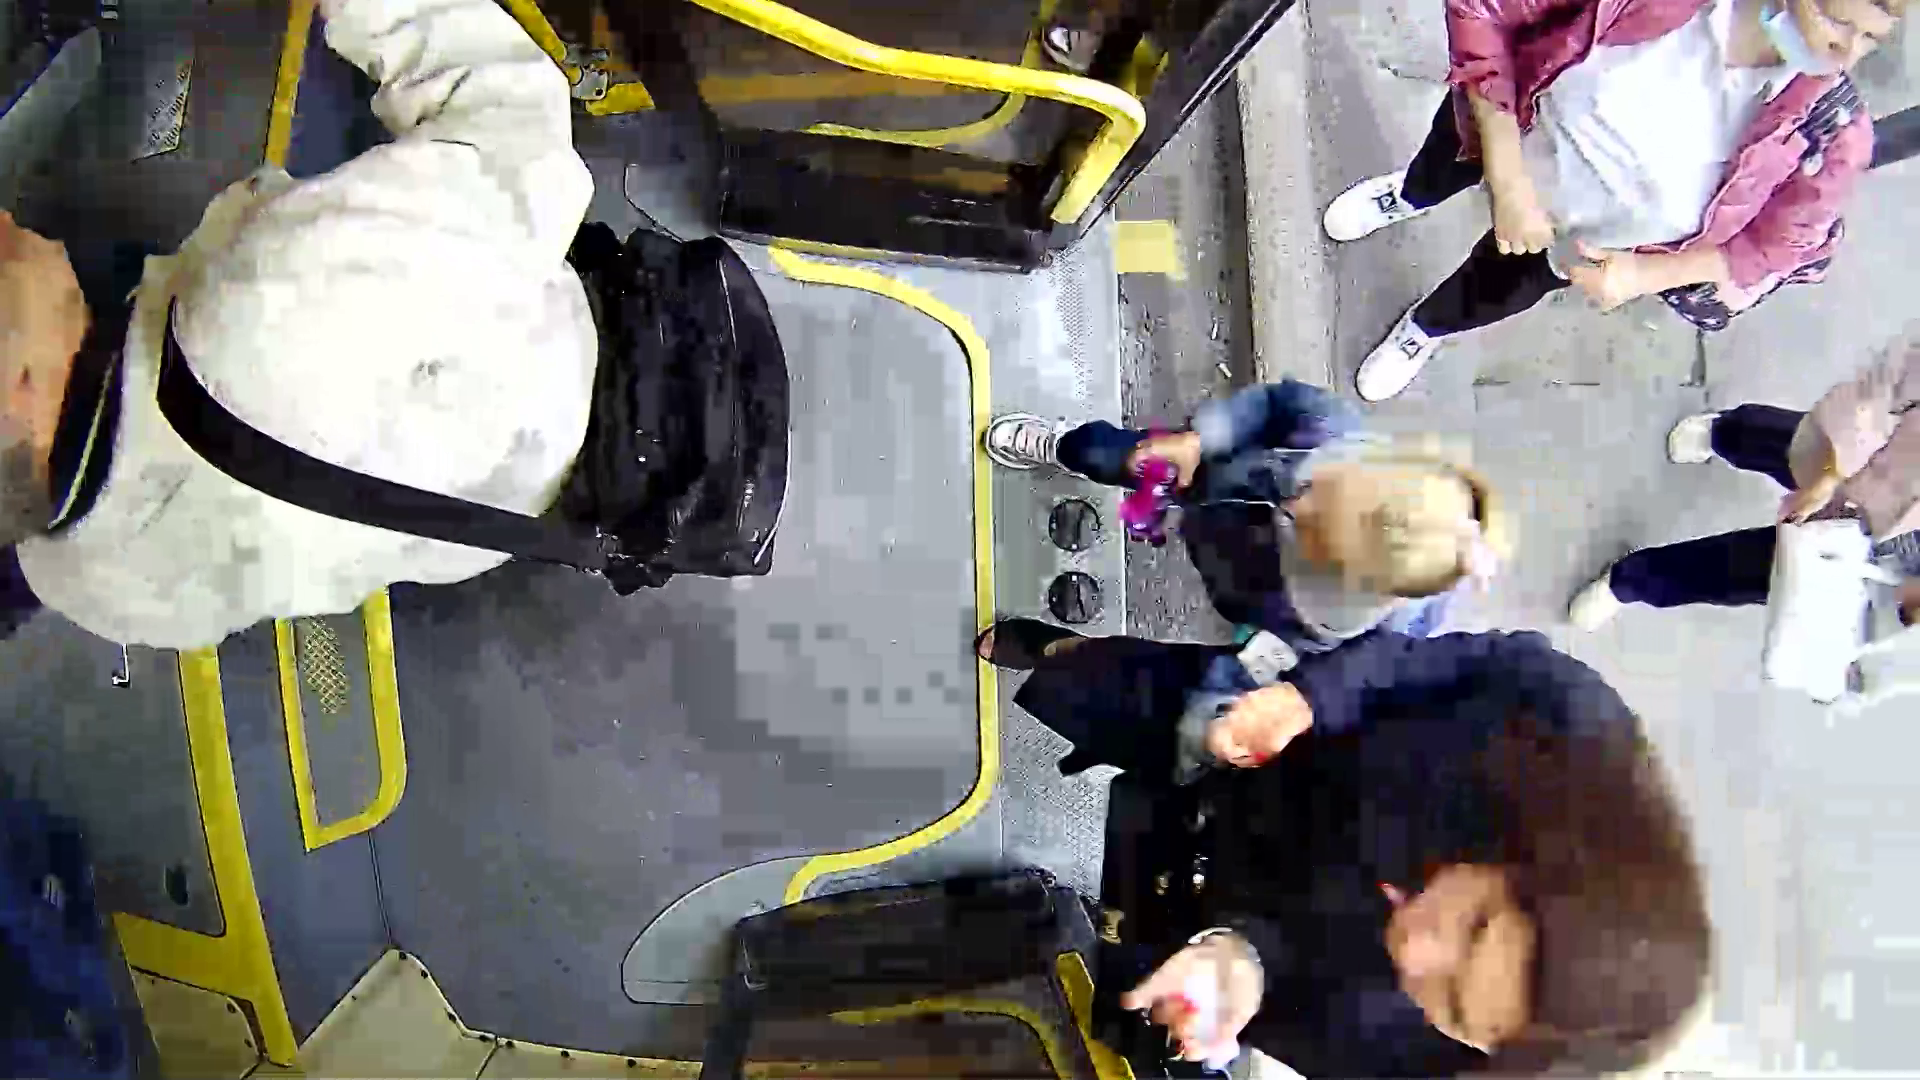person: (39, 123, 807, 703), (1069, 620, 1793, 1041), (993, 367, 1560, 641)
